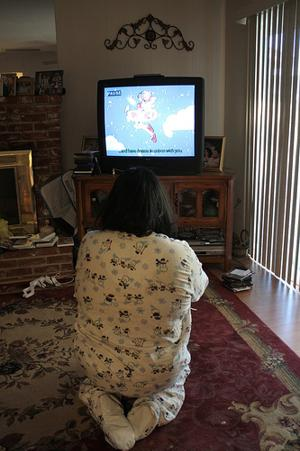person: (75, 168, 206, 443)
